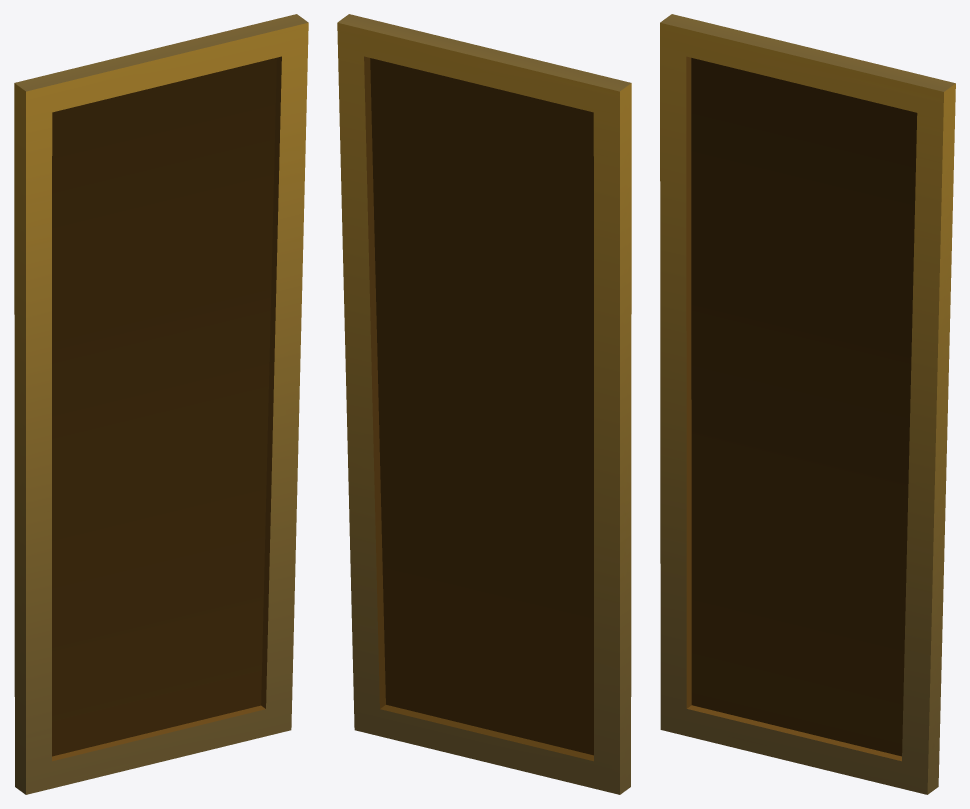
File: Museum_Door.fbx
3 views of the same model, side by side, from view 1: azimuth 30°, elevation 25°; view 2: azimuth 150°, elevation 25°; view 3: azimuth 330°, elevation 25° (orthographic).
Visible parts, largest first — view 1: Cube; view 2: Cube; view 3: Cube.
Part boxes in pixels (x1,y1,x2,y2): Cube: [14, 14, 308, 794]; Cube: [337, 14, 631, 794]; Cube: [660, 14, 955, 794].
Size of the model in its own units: 1.18 by 2.81 by 0.0855.
